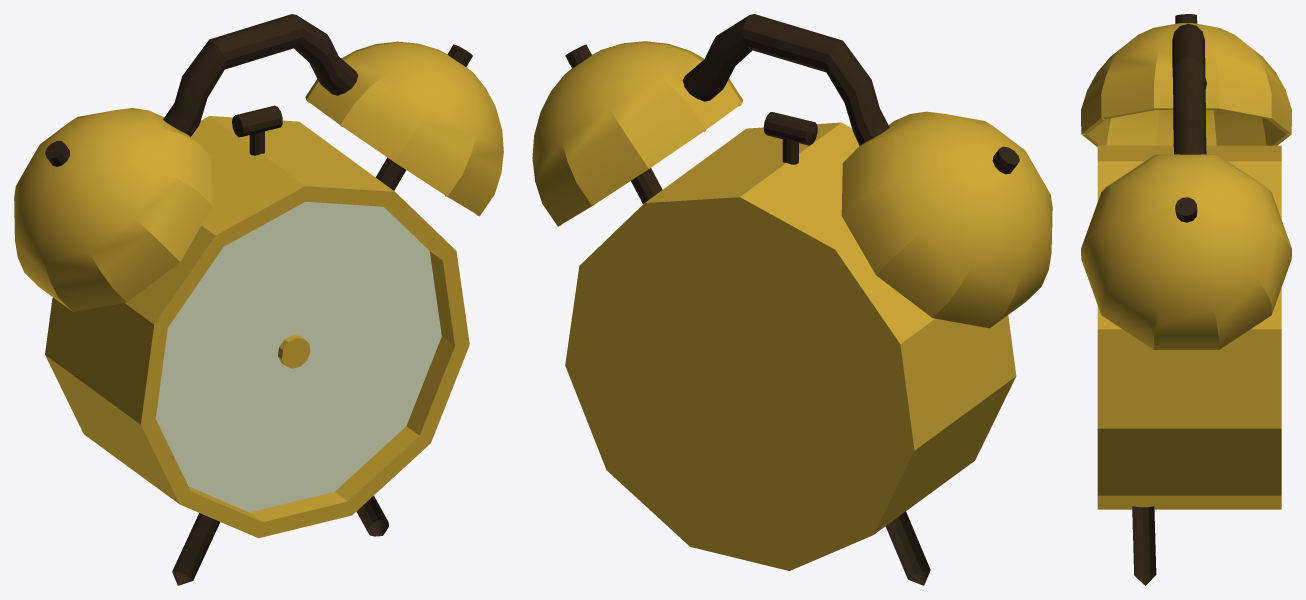
The model's file is alarm_clock_top01.glb.
The picture shows the model from 3 angles, left to right: view 1: azimuth 30°, elevation 25°; view 2: azimuth 150°, elevation 25°; view 3: azimuth 270°, elevation 25°; orthographic projection. The views are drawn at different scales.
Parts seen in each view (by area): view 1: Cylinder, Sphere, Torus, Cylinder.001, Cylinder.003; view 2: Cylinder, Sphere, Torus, Cylinder.001, Cylinder.003; view 3: Sphere, Cylinder, Torus, Cylinder.001.
Boxes of the visible parts, left/top/right/bottom form: Cylinder: left=45, top=116, right=469, bottom=538; Sphere: left=14, top=41, right=503, bottom=311; Torus: left=163, top=14, right=358, bottom=136; Cylinder.001: left=172, top=496, right=388, bottom=585; Cylinder.003: left=232, top=105, right=282, bottom=137; Cylinder: left=565, top=122, right=1016, bottom=570; Sphere: left=532, top=41, right=1052, bottom=328; Torus: left=682, top=14, right=889, bottom=145; Cylinder.001: left=885, top=511, right=930, bottom=585; Cylinder.003: left=763, top=112, right=817, bottom=145; Sphere: left=1081, top=14, right=1291, bottom=349; Cylinder: left=1097, top=145, right=1281, bottom=509; Torus: left=1172, top=23, right=1206, bottom=154; Cylinder.001: left=1132, top=506, right=1156, bottom=585.
Bounding box in the file's own units: 2.77 × 2.99 × 1.15.
